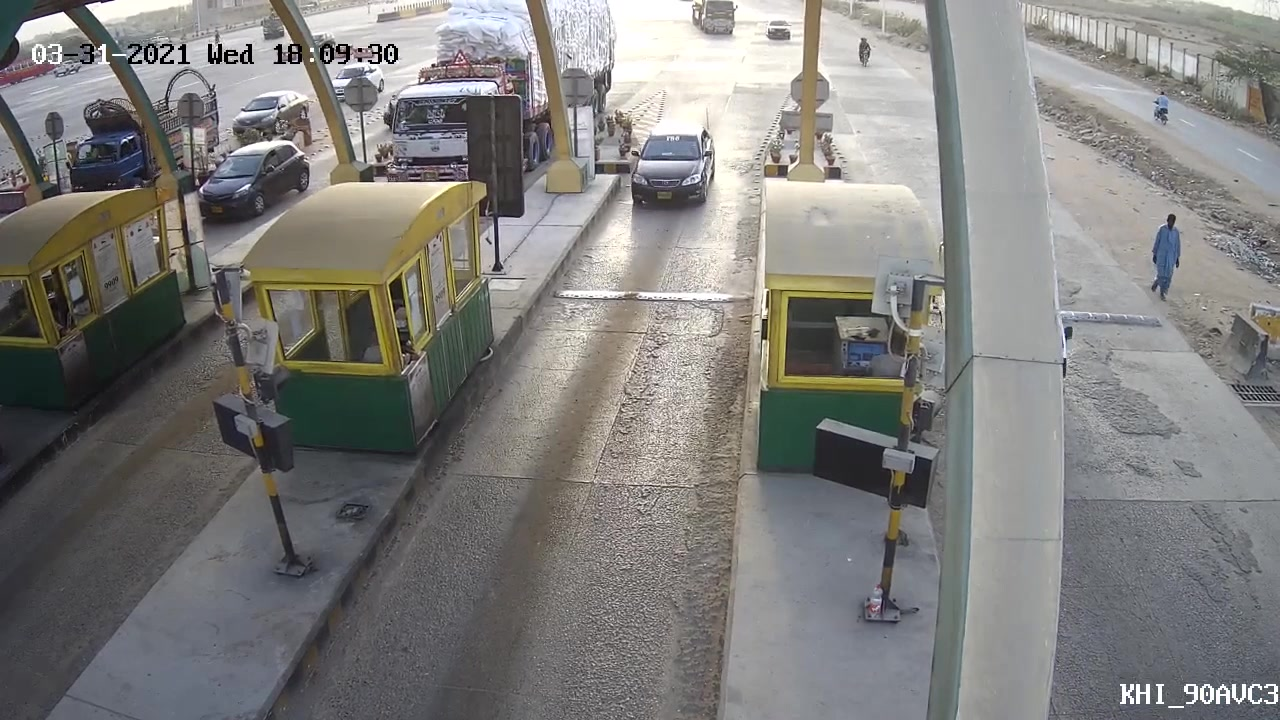F1: (611, 111, 727, 216)
